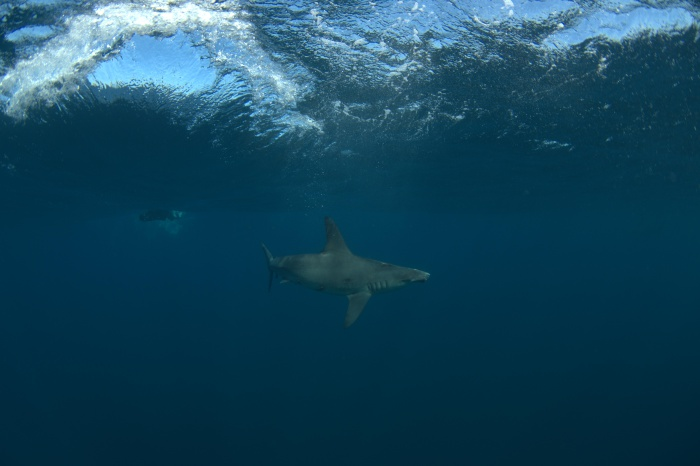Hammer: (225, 208, 492, 350)
